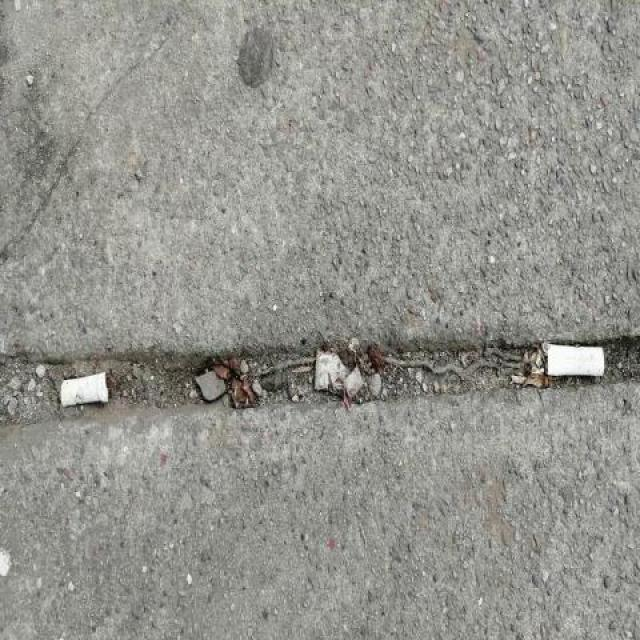non-organic waste: (544, 341, 607, 379), (55, 370, 113, 410)
